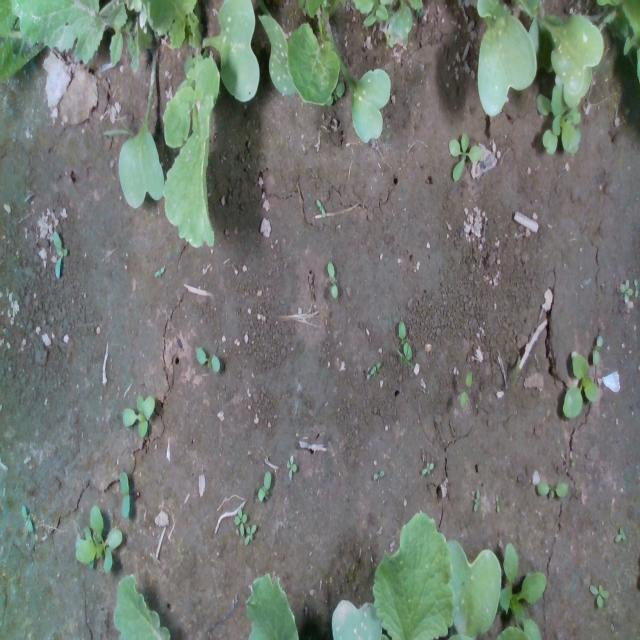weed: (448, 131, 482, 182), (192, 343, 222, 373), (117, 469, 131, 519), (536, 477, 568, 498), (256, 468, 273, 506), (459, 369, 472, 410), (588, 582, 610, 606), (326, 258, 338, 300), (20, 503, 34, 533), (592, 333, 604, 367), (284, 453, 296, 479), (314, 197, 326, 218), (612, 526, 626, 542), (371, 467, 386, 481), (472, 488, 480, 513), (420, 461, 434, 475), (494, 492, 501, 514)
